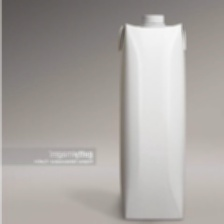carton: (113, 8, 194, 224)
